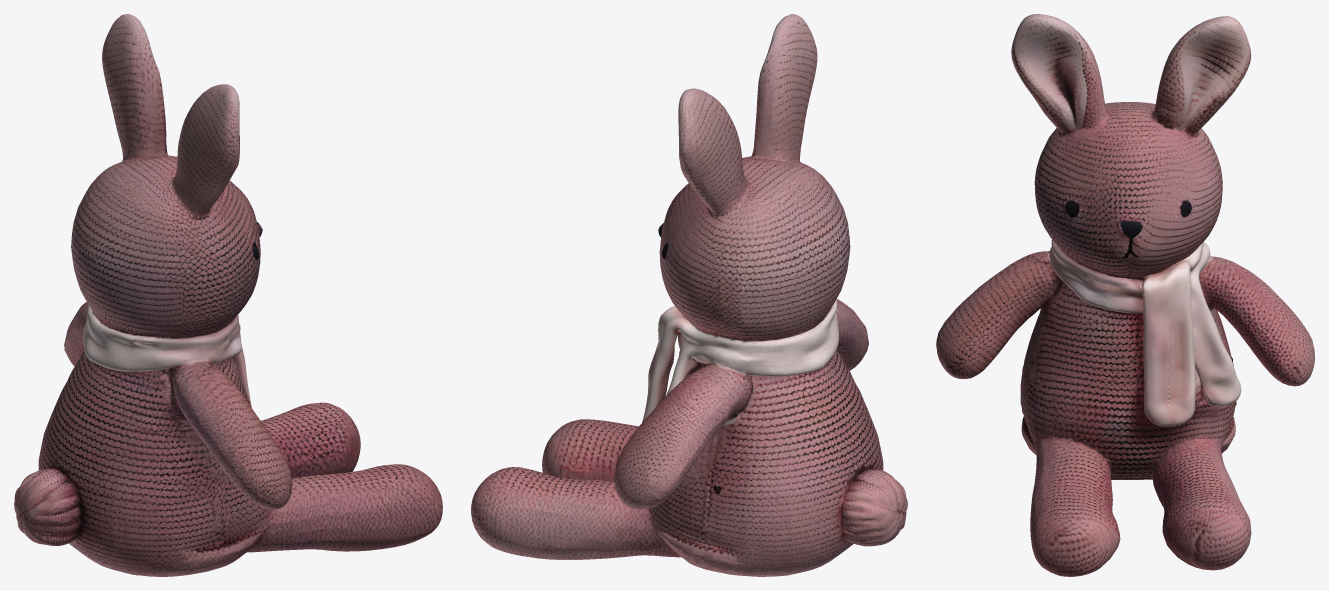
File: bunny.glb
The picture shows the model from 3 angles, left to right: view 1: azimuth 30°, elevation 25°; view 2: azimuth 150°, elevation 25°; view 3: azimuth 270°, elevation 25°; orthographic projection. The views are drawn at different scales.
Parts seen in each view (by area): view 1: tripo_node_05ec1fdb-e713-4d46-862d-d9df1f7d429d; view 2: tripo_node_05ec1fdb-e713-4d46-862d-d9df1f7d429d; view 3: tripo_node_05ec1fdb-e713-4d46-862d-d9df1f7d429d.
Part boxes in pixels (x1,y1,x2,y2): tripo_node_05ec1fdb-e713-4d46-862d-d9df1f7d429d: (14,14,442,576); tripo_node_05ec1fdb-e713-4d46-862d-d9df1f7d429d: (471,14,907,576); tripo_node_05ec1fdb-e713-4d46-862d-d9df1f7d429d: (936,14,1314,576).
Size of the model in its own units: 0.786 by 1 by 0.7247.
Materials: 1 (1 with a texture image).
